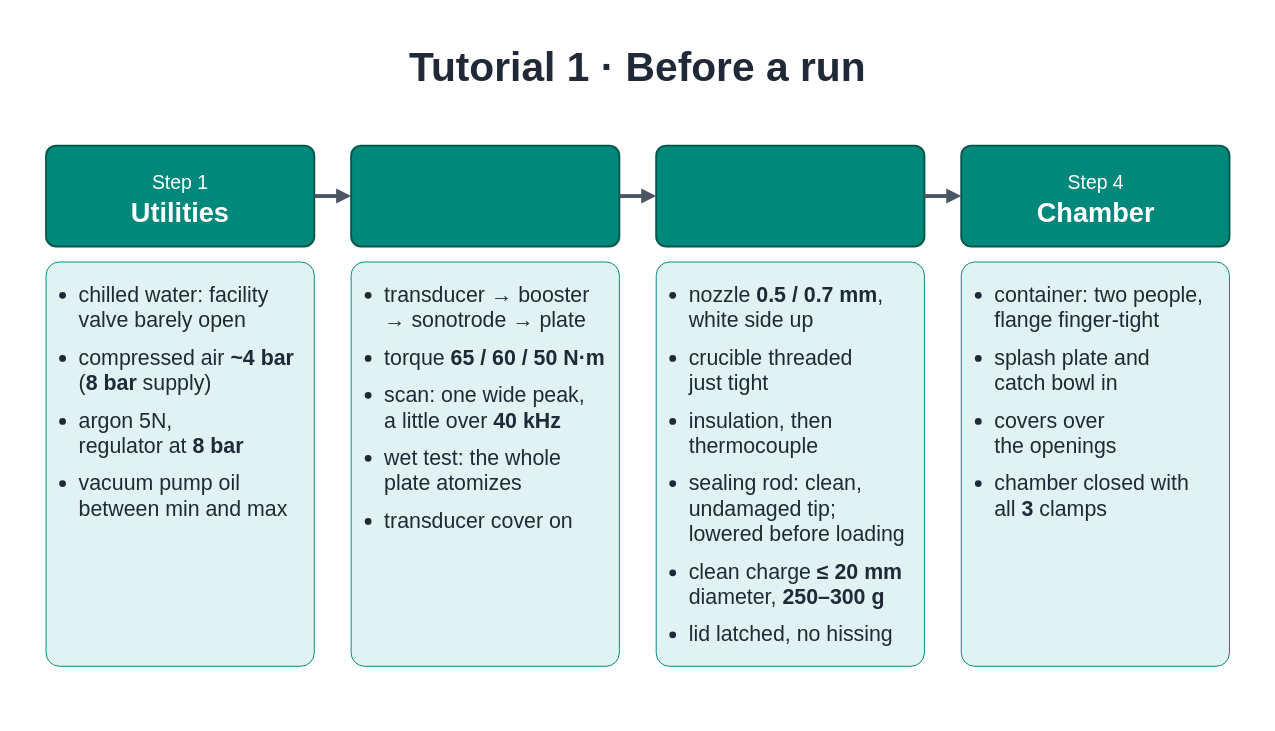
Some shapes in this 1275 by 731 pixel diagram are drawn without their labels. Here are the shapes that lost their labels. From the top down, the centre of each, then its label:
At (x=485, y=195): "Step 2 Ultrasonic stack".
At (x=790, y=195): "Step 3 Furnace".
